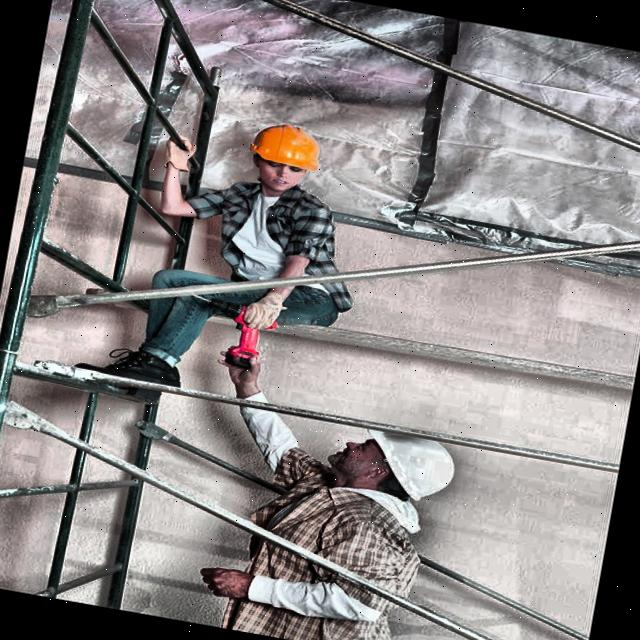helmet: (322, 424, 454, 508), (246, 116, 324, 195)
